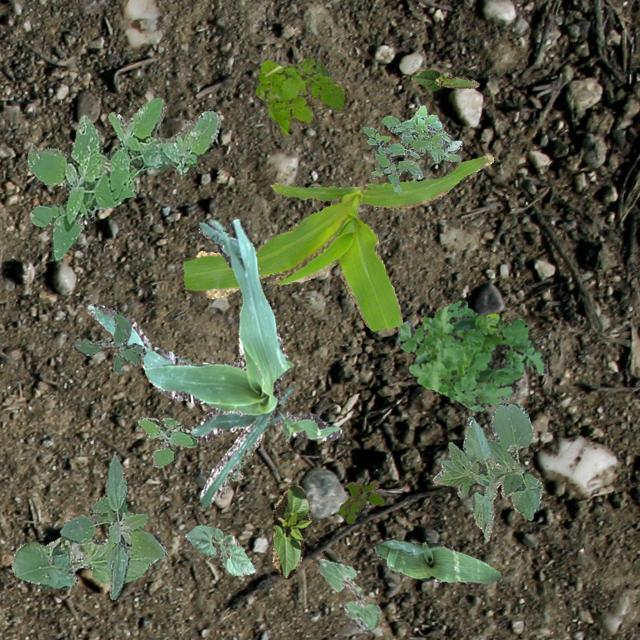crop: (86, 218, 340, 506), (182, 154, 492, 330), (432, 402, 542, 538), (11, 536, 158, 588), (372, 538, 499, 582), (316, 558, 380, 632), (272, 482, 310, 578), (184, 524, 253, 574), (410, 68, 478, 90)
weed: (27, 97, 220, 260), (396, 300, 546, 410), (58, 454, 165, 598), (361, 104, 462, 192), (255, 56, 346, 134), (70, 310, 144, 372), (137, 416, 196, 466), (338, 480, 382, 522)
